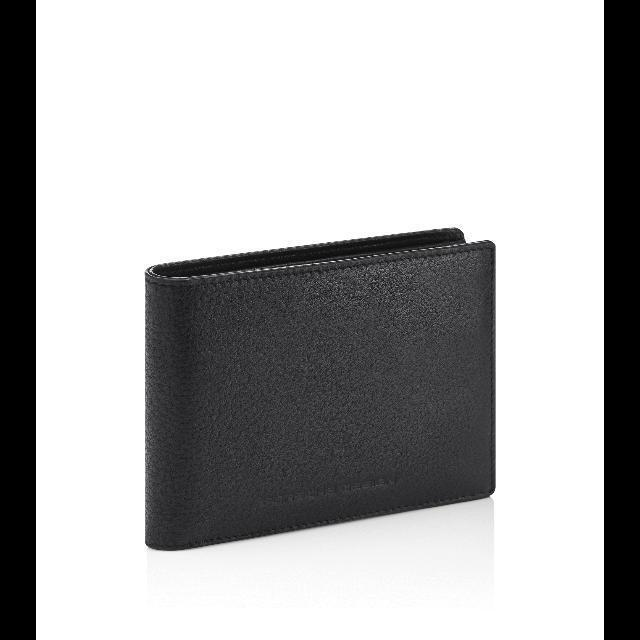Wallet: (133, 207, 513, 548)
